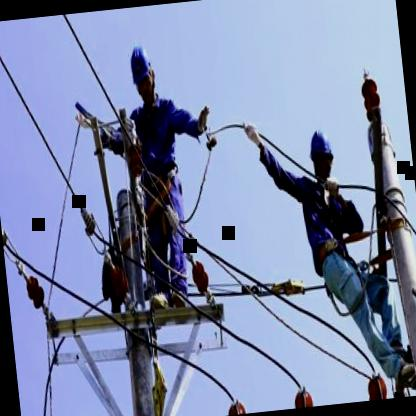helmet: (126, 36, 158, 109), (304, 122, 337, 190)
